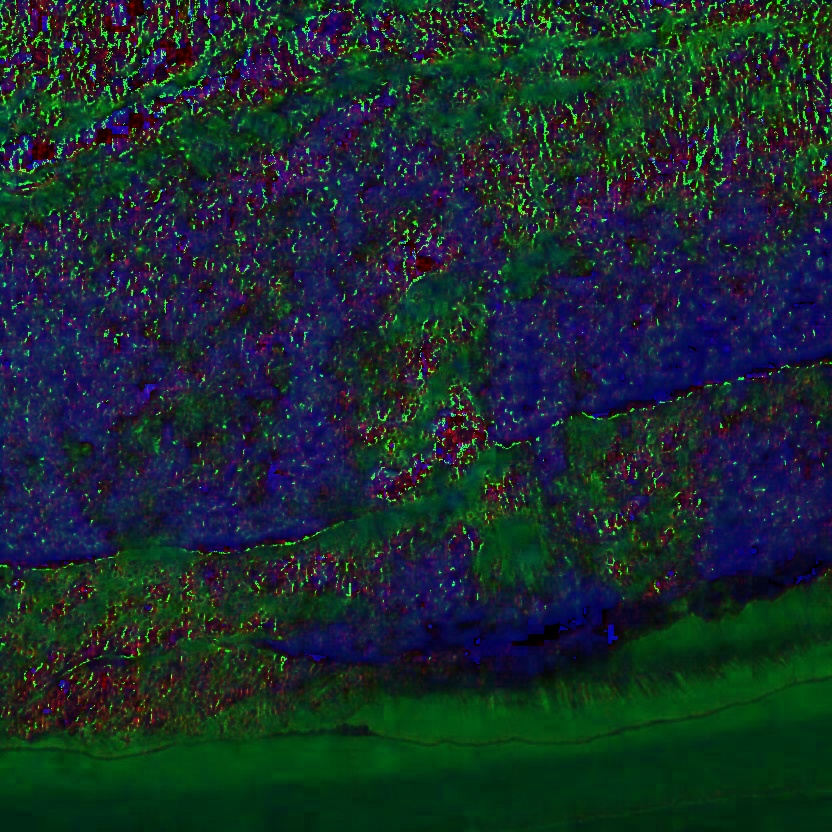rip_current: (290, 137, 621, 653)
